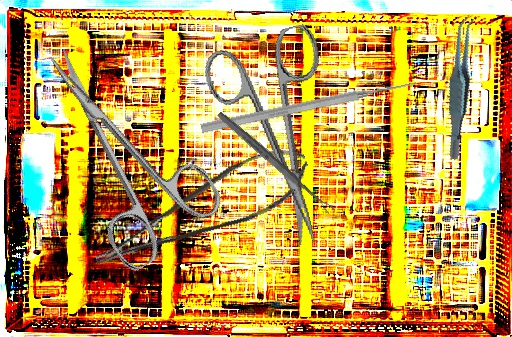Iris Scissors: (9, 19, 232, 276), (198, 22, 361, 258)
Micro Scissor: (80, 139, 319, 272)
Pusher: (199, 76, 419, 136)
Surgical Spoon: (215, 109, 335, 216)
Tissue Forceps: (418, 12, 503, 161)
